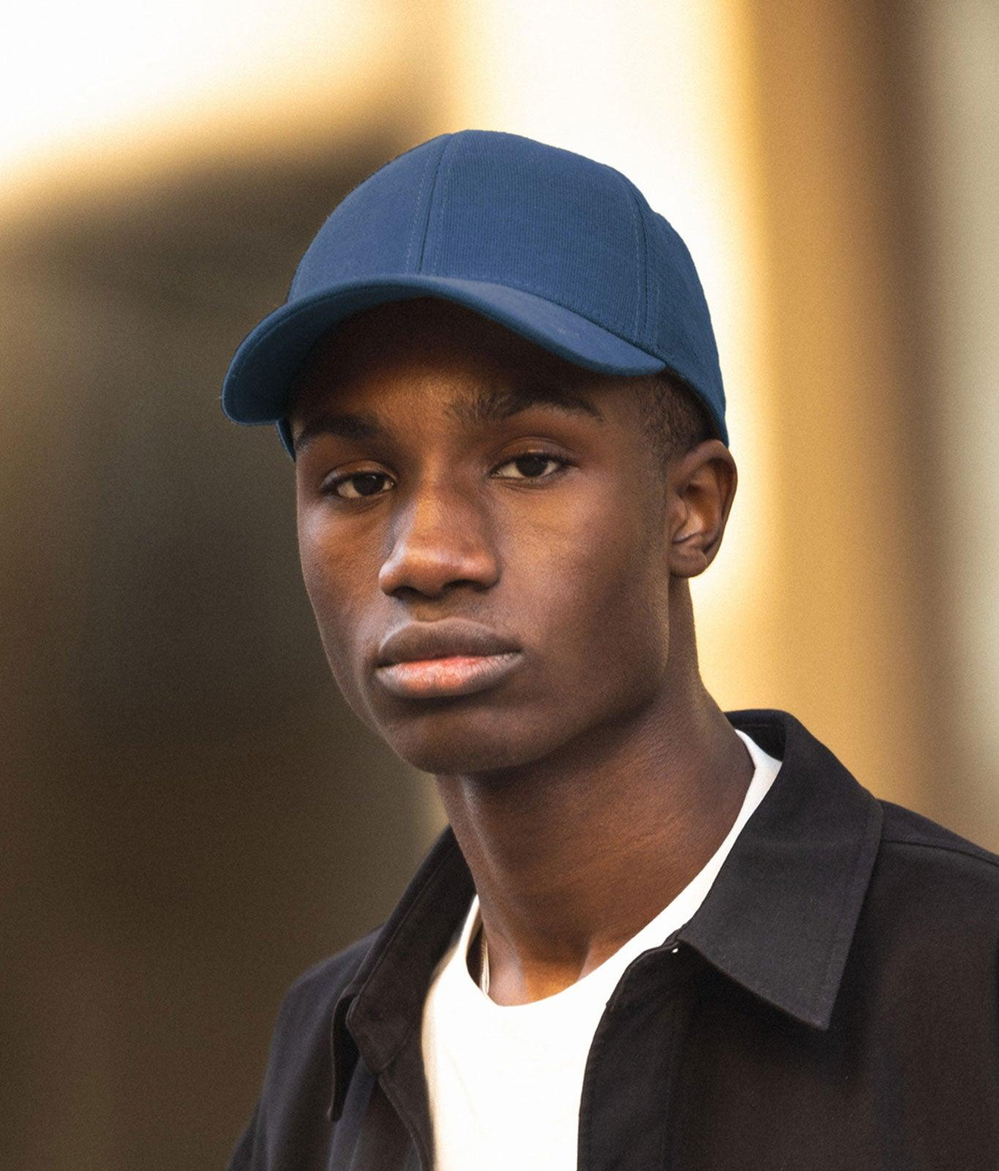cap: (223, 102, 757, 435)
